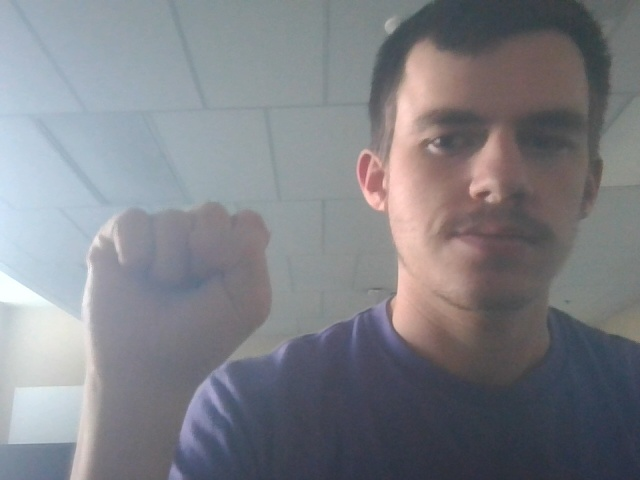yes: (67, 191, 291, 396)
